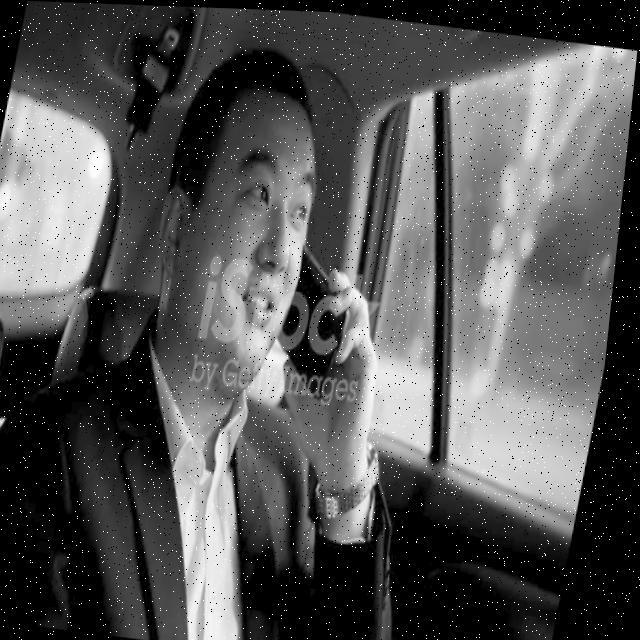PhoneCall: (276, 240, 368, 400)
